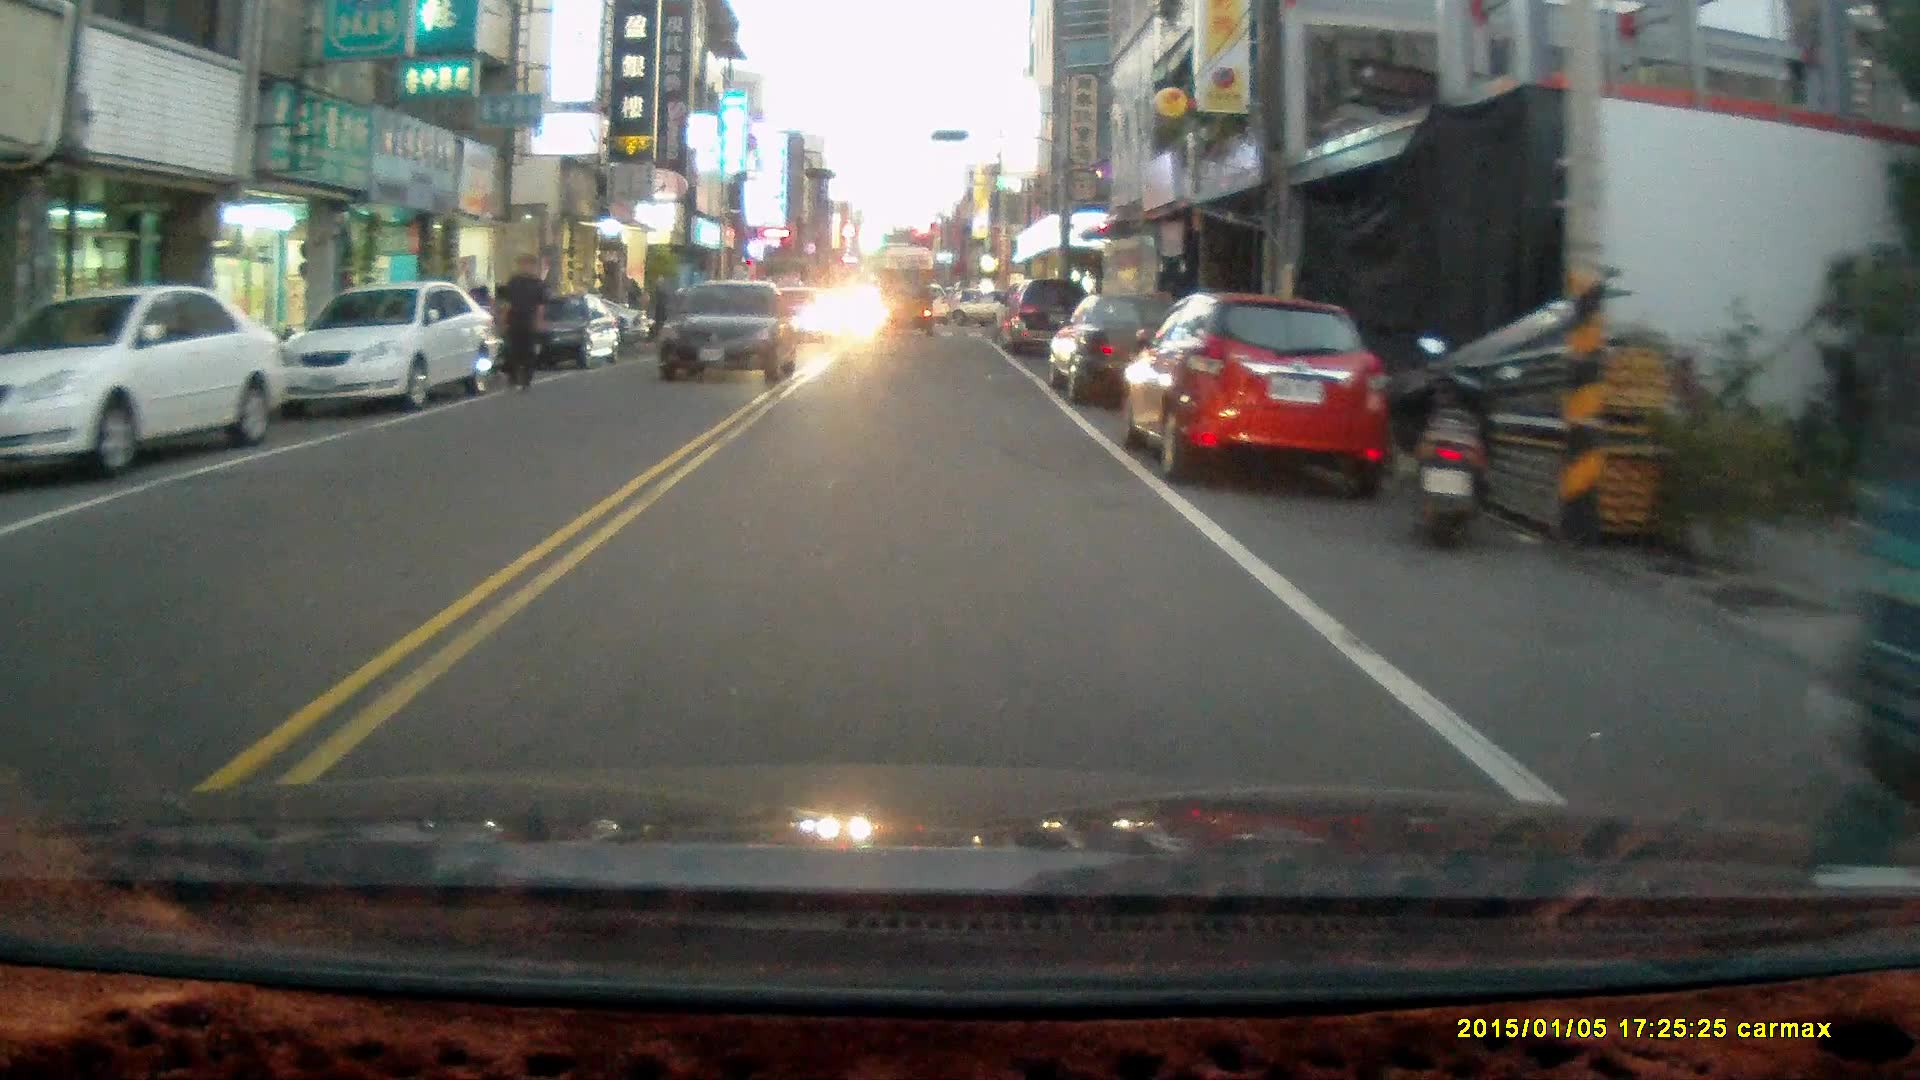pedestrian: (494, 255, 547, 396), (647, 272, 675, 349)
vehicle: (2, 286, 296, 481), (1126, 300, 1395, 499), (282, 289, 502, 420), (1044, 295, 1219, 411), (654, 278, 802, 390), (510, 292, 620, 377), (991, 278, 1099, 362), (873, 265, 937, 335)
